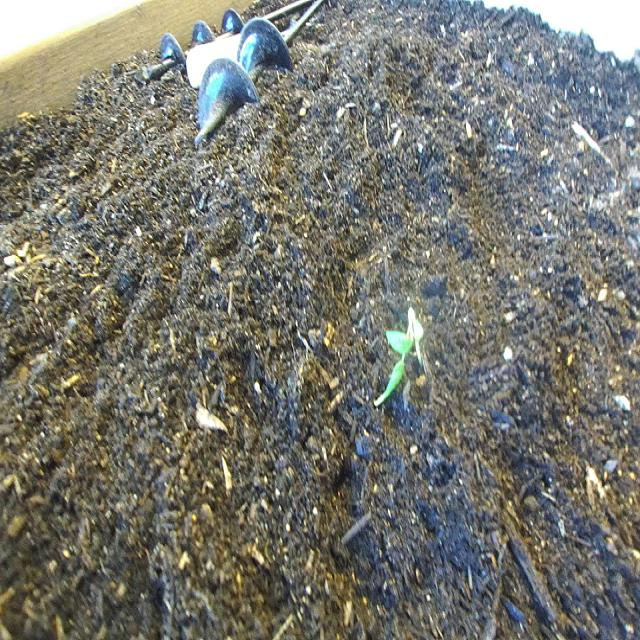Healthy: (372, 303, 426, 422)
